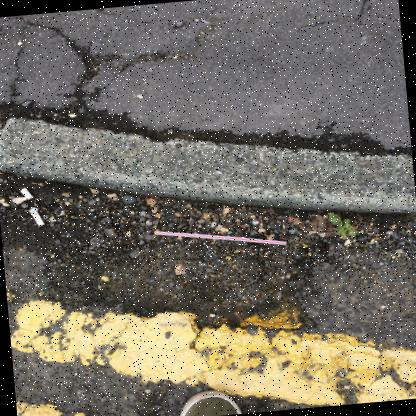Cigarette: (28, 207, 44, 227), (20, 188, 34, 200)
Plastic straw: (155, 231, 287, 245)
